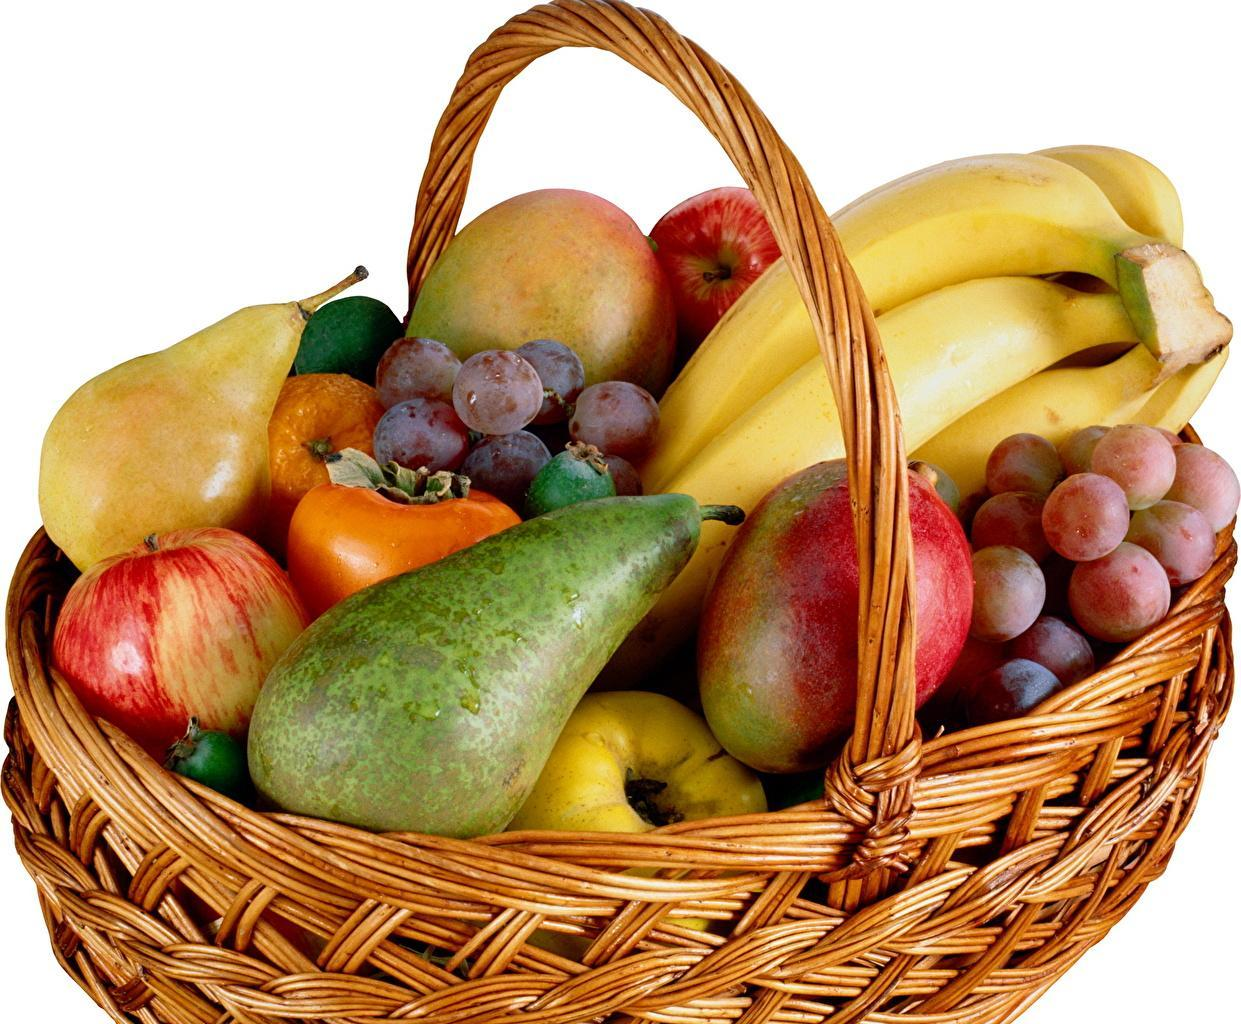apple: (56, 529, 312, 759), (651, 189, 787, 355)
